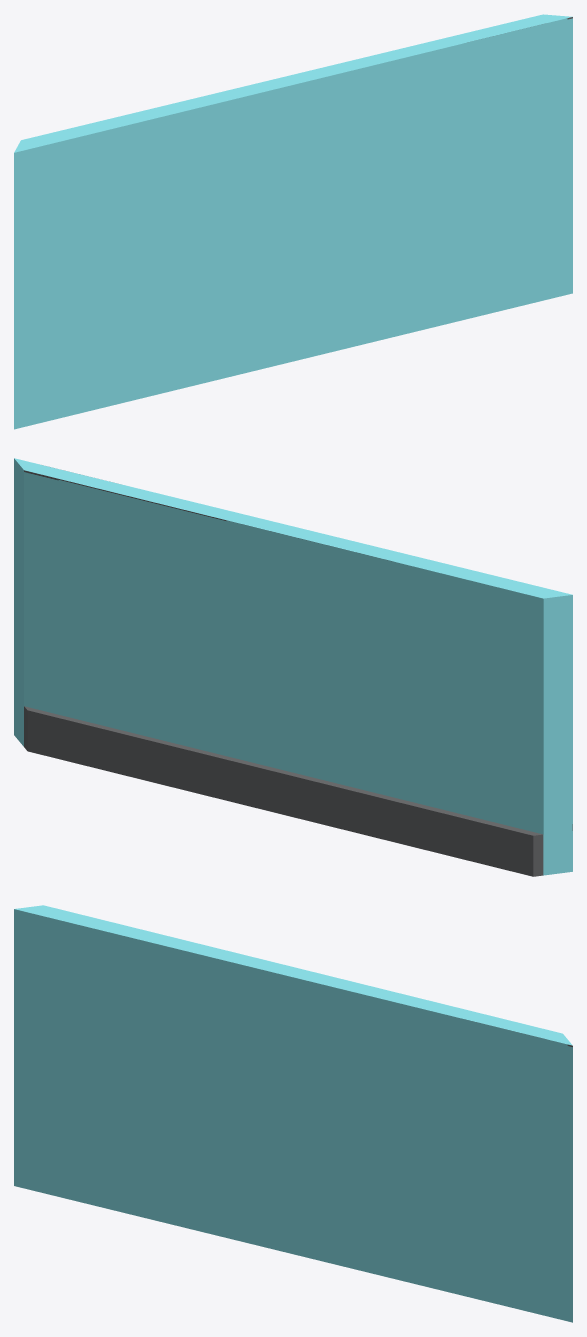
Rendered from wall2.fbx.
3 renders of one model, top to bottom at view 1: azimuth 30°, elevation 25°; view 2: azimuth 150°, elevation 25°; view 3: azimuth 330°, elevation 25°, orthographic.
Parts seen in each view (by area): view 1: wall01.001; view 2: wall01.001; view 3: wall01.001.
Part boxes in pixels (x1=…): wall01.001: x1=14, y1=14, x2=572, y2=429; wall01.001: x1=14, y1=458, x2=572, y2=876; wall01.001: x1=14, y1=905, x2=572, y2=1322.
Bounding box in the file's own units: 1357 × 642 × 64.69.
Materials: 1 (1 with a texture image).
